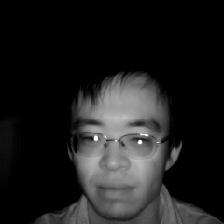normal: (50, 60, 184, 217)
